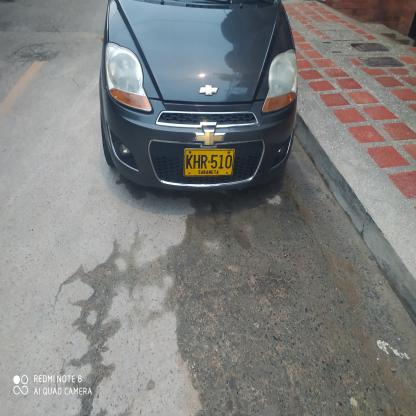placa: (182, 146, 236, 178)
